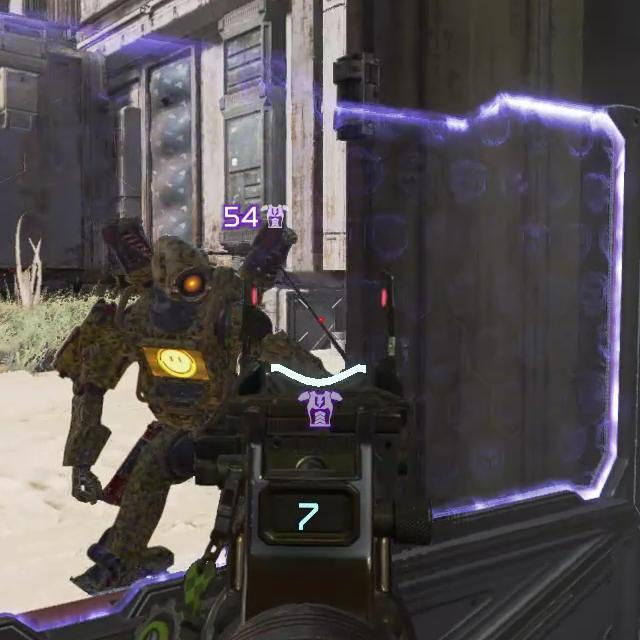avatar: (59, 213, 299, 592)
